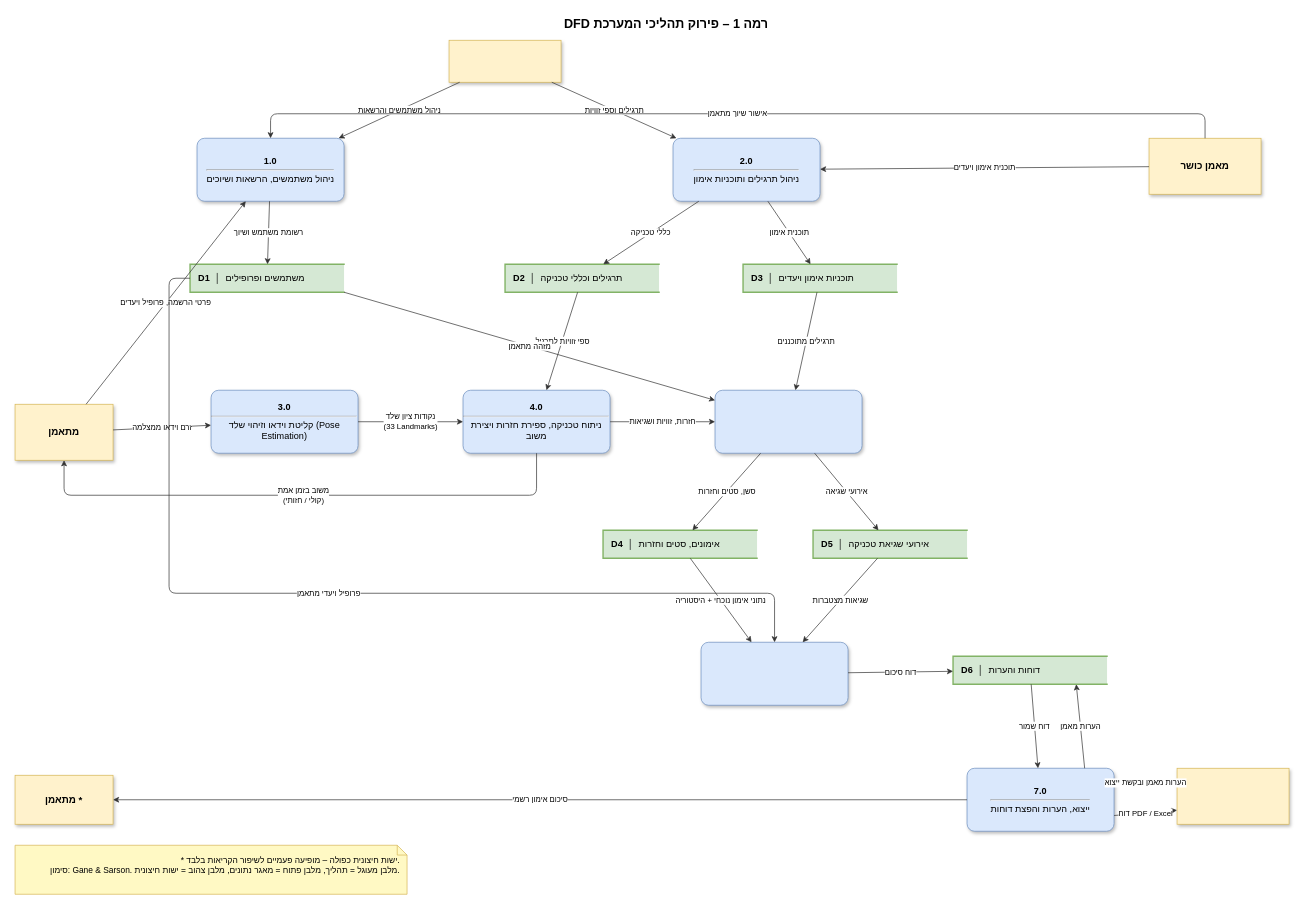
The diagram is 1306 pixels wide and 907 high, and some of its shapes have lost their labels. The shapes that lost their labels are listed below. From the top down, each one's centre as x and y in pixels, then its label:
At point 505,62: "מנהל מערכת".
At point 789,422: "5.0 רישום אימון ולוגים".
At point 775,674: "6.0 הפקת דוח סיכום אנליטי".
At point 1233,797: "מאמן כושר *".
